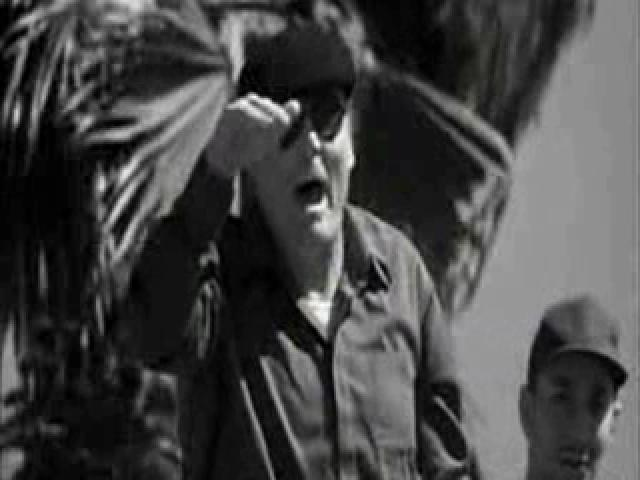T: (122, 21, 486, 480)
